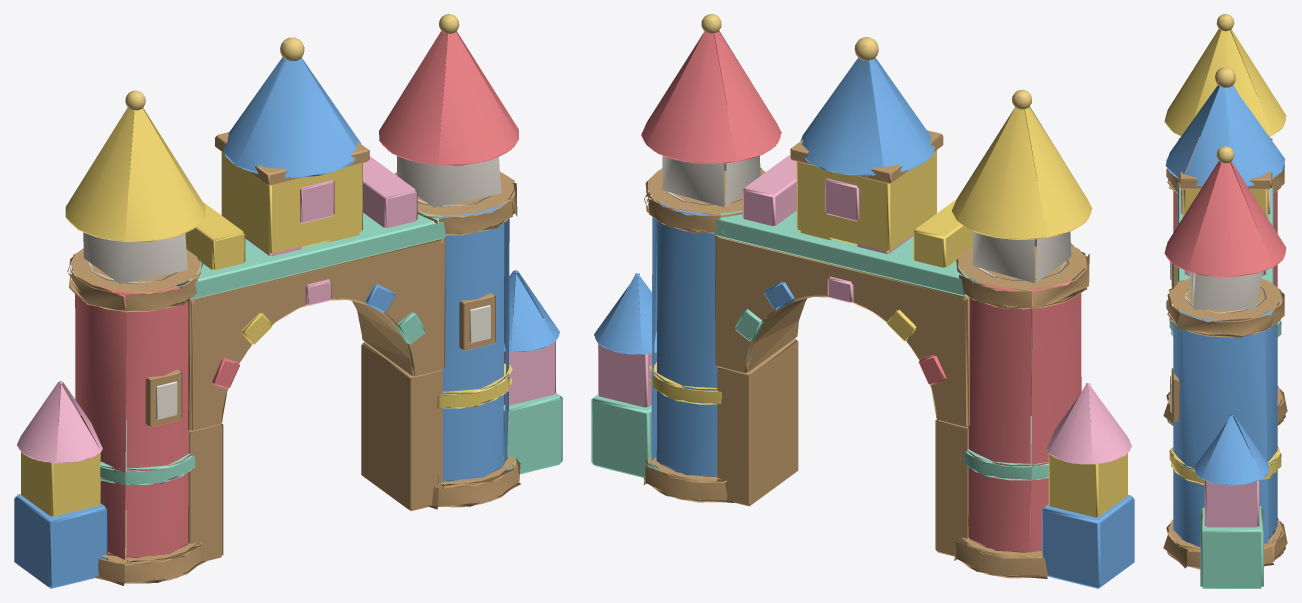
File: castle_arch_gate.glb
3 renders of one model, left to right at view 1: azimuth 30°, elevation 25°; view 2: azimuth 150°, elevation 25°; view 3: azimuth 270°, elevation 25°, orthographic. The views are drawn at different scales.
Visible parts, largest first — view 1: TowerCyl_0, MainArchSpan, TowerCyl_1, Roof_0, Roof_1, ArchPier_2.5, CenterRoof, CenterTurret, UpperPastelDeck, WingBase_0, Collar_0, ArchPier_-2.5 (+20 smaller); view 2: TowerCyl_0, MainArchSpan, TowerCyl_1, Roof_0, Roof_1, ArchPier_2.5, CenterRoof, CenterTurret, UpperPastelDeck, WingBase_0, Collar_0, WingBase_1 (+16 smaller); view 3: TowerCyl_1, Roof_1, CenterRoof, Roof_0, WingBase_1, Collar_1, WingRoof_1, UpperTurret_1, WingTop_1, Plinth_1, TowerMidBand_1, CenterTurretTrim (+9 smaller).
Part boxes in pixels (x1=…): TowerCyl_0: x1=75, y1=285, x2=190, y2=561; MainArchSpan: x1=188, y1=238, x2=445, y2=431; TowerCyl_1: x1=404, y1=203, x2=509, y2=483; Roof_0: x1=65, y1=107, x2=205, y2=241; Roof_1: x1=379, y1=29, x2=518, y2=165; ArchPier_2.5: x1=361, y1=341, x2=443, y2=511; CenterRoof: x1=223, y1=54, x2=361, y2=177; CenterTurret: x1=221, y1=152, x2=362, y2=254; UpperPastelDeck: x1=176, y1=211, x2=446, y2=299; WingBase_0: x1=14, y1=494, x2=107, y2=588; Collar_0: x1=67, y1=248, x2=203, y2=312; ArchPier_-2.5: x1=180, y1=423, x2=223, y2=561; TowerCyl_0: x1=962, y1=279, x2=1081, y2=553; MainArchSpan: x1=715, y1=236, x2=969, y2=427; TowerCyl_1: x1=651, y1=201, x2=755, y2=477; Roof_0: x1=952, y1=106, x2=1092, y2=239; Roof_1: x1=641, y1=31, x2=781, y2=164; ArchPier_2.5: x1=716, y1=338, x2=798, y2=506; CenterRoof: x1=800, y1=51, x2=934, y2=176; CenterTurret: x1=796, y1=150, x2=936, y2=252; UpperPastelDeck: x1=714, y1=211, x2=980, y2=296; WingBase_0: x1=1042, y1=495, x2=1134, y2=588; Collar_0: x1=956, y1=243, x2=1089, y2=309; WingBase_1: x1=591, y1=394, x2=660, y2=477; TowerCyl_1: x1=1173, y1=309, x2=1277, y2=546; Roof_1: x1=1164, y1=161, x2=1286, y2=276; CenterRoof: x1=1165, y1=85, x2=1285, y2=186; Roof_0: x1=1164, y1=29, x2=1286, y2=136; WingBase_1: x1=1200, y1=506, x2=1263, y2=588; Collar_1: x1=1166, y1=278, x2=1284, y2=337; WingRoof_1: x1=1194, y1=414, x2=1269, y2=485; UpperTurret_1: x1=1184, y1=242, x2=1266, y2=313; WingTop_1: x1=1204, y1=459, x2=1259, y2=527; Plinth_1: x1=1163, y1=518, x2=1287, y2=569; TowerMidBand_1: x1=1169, y1=446, x2=1281, y2=484; CenterTurretTrim: x1=1178, y1=136, x2=1272, y2=189.
Size of the model in its own units: 12.03 by 10.36 by 2.82.
